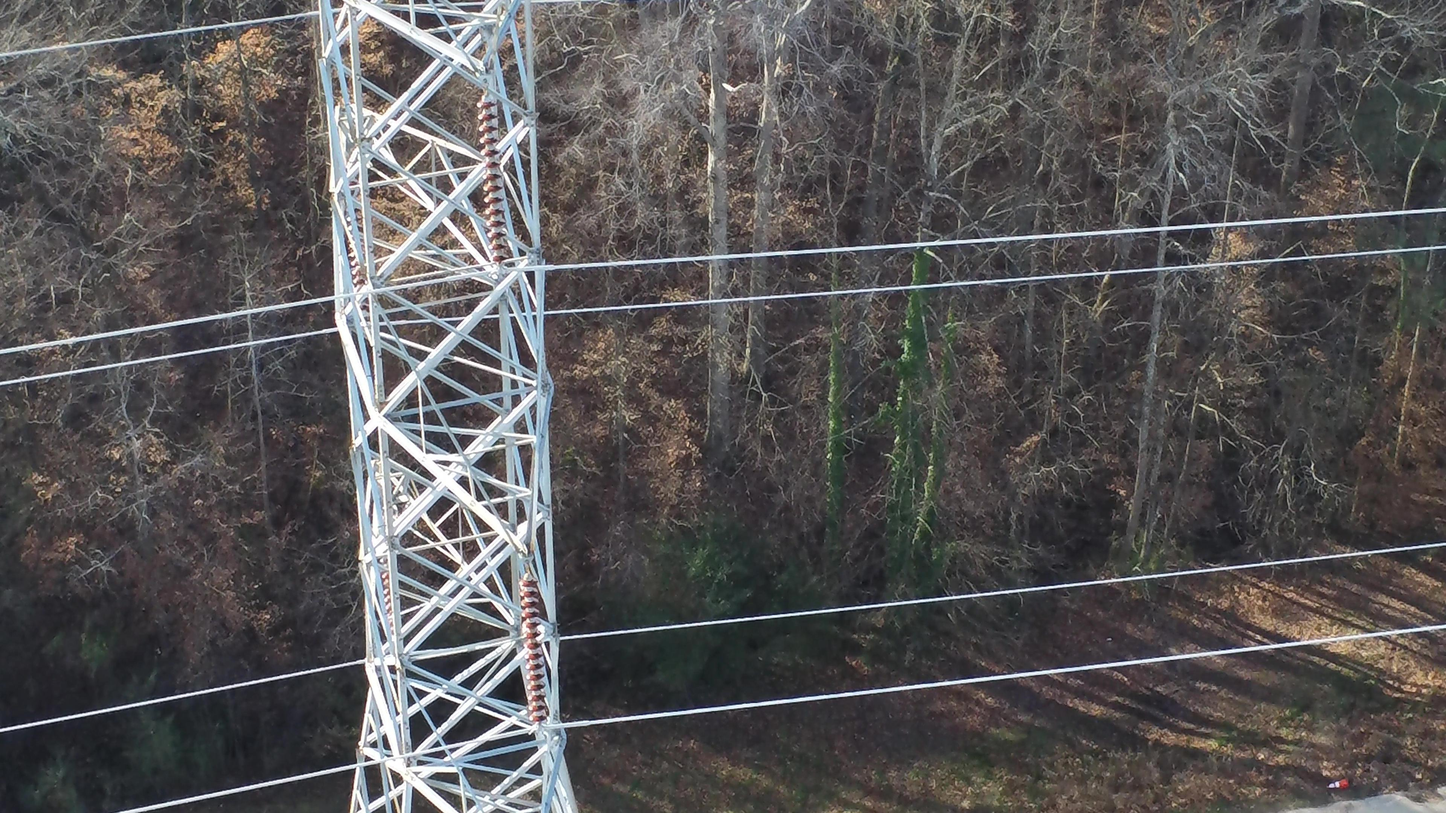power_tower: (317, 0, 578, 813)
